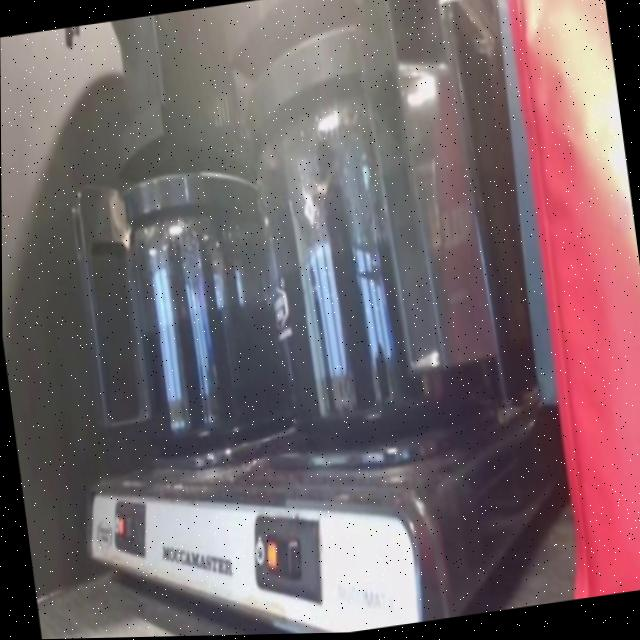coffee: (225, 0, 507, 484), (83, 108, 298, 478)
